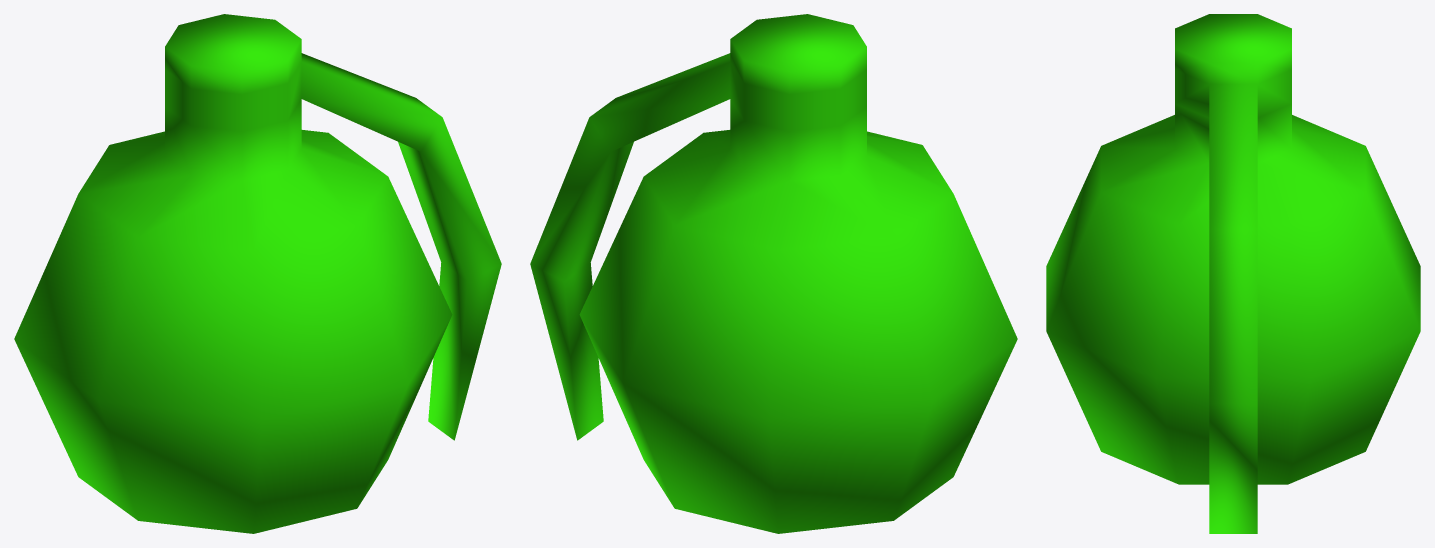
File: Granada.fbx
3 renders of one model, left to right at view 1: azimuth 30°, elevation 25°; view 2: azimuth 150°, elevation 25°; view 3: azimuth 270°, elevation 25°, orthographic. The views are drawn at different scales.
Parts seen in each view (by area): view 1: Granada; view 2: Granada; view 3: Granada.
Boxes of the visible parts, x1,y1,x2,y2 form: Granada: [14, 14, 501, 533]; Granada: [530, 14, 1017, 533]; Granada: [1046, 14, 1420, 533].
Size of the model in its own units: 226 by 242 by 185.
